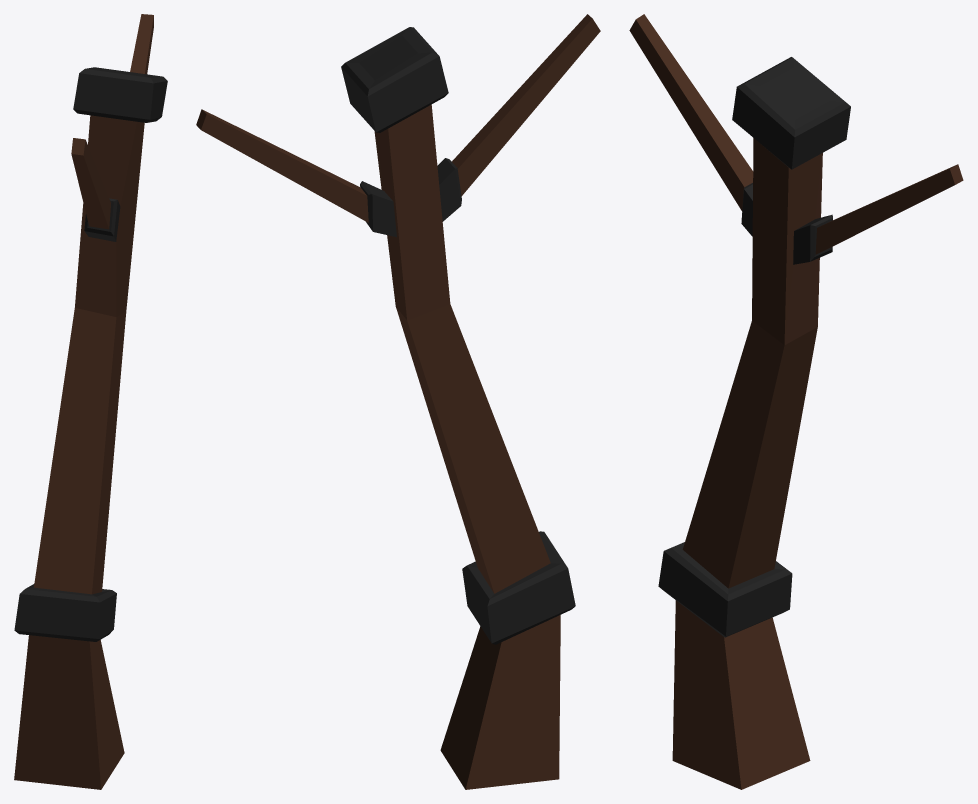
Rendered from WoodenBeams_01.fbx.
3 renders of one model, left to right at view 1: azimuth 30°, elevation 25°; view 2: azimuth 150°, elevation 25°; view 3: azimuth 270°, elevation 25°, orthographic. The views are drawn at different scales.
Visible parts, largest first — view 1: WoodenBeams_01; view 2: WoodenBeams_01; view 3: WoodenBeams_01.
Part boxes in pixels (x1,y1,x2,y2): WoodenBeams_01: [14, 14, 167, 789]; WoodenBeams_01: [196, 14, 600, 789]; WoodenBeams_01: [629, 14, 963, 789].
Bounding box in the file's own units: 1.89 × 2.06 × 4.92.
